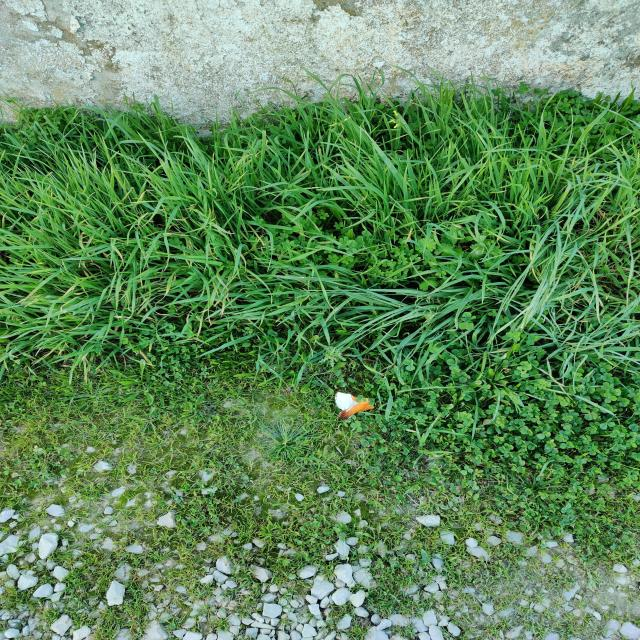litter: (335, 392, 374, 419)
